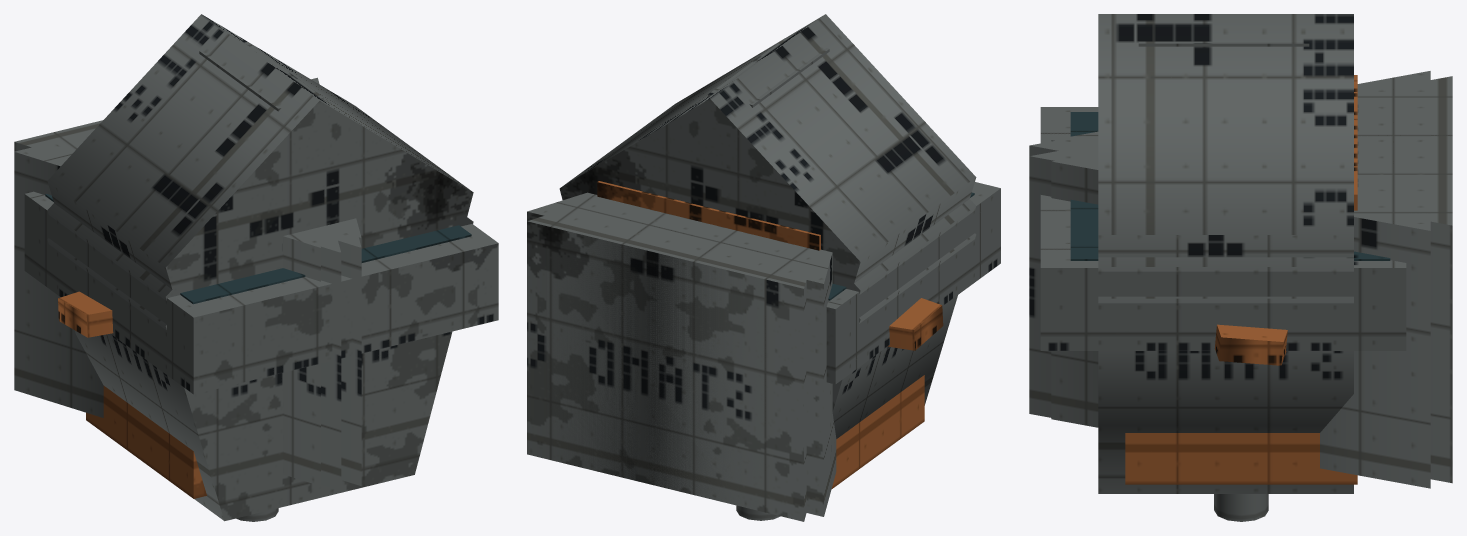
The model's file is torpedo_tube.glb.
3 views of the same model, side by side, from view 1: azimuth 30°, elevation 25°; view 2: azimuth 150°, elevation 25°; view 3: azimuth 270°, elevation 25° (orthographic). The views are drawn at different scales.
Parts seen in each view (by area): view 1: merged-646a6c, merged-a56233, merged-263c43; view 2: merged-646a6c, merged-a56233; view 3: merged-646a6c, merged-a56233, merged-263c43.
Boxes of the visible parts, x1,y1,x2,y2 form: merged-646a6c: (14, 14, 498, 521); merged-a56233: (58, 291, 206, 498); merged-263c43: (45, 194, 471, 304); merged-646a6c: (527, 14, 1000, 521); merged-a56233: (597, 181, 943, 488); merged-646a6c: (1029, 14, 1452, 521); merged-a56233: (1125, 75, 1357, 484); merged-263c43: (1070, 112, 1390, 260).
Bounding box in the file's own units: 20.11 × 25.05 × 19.35.
4 materials, 4 textured.
